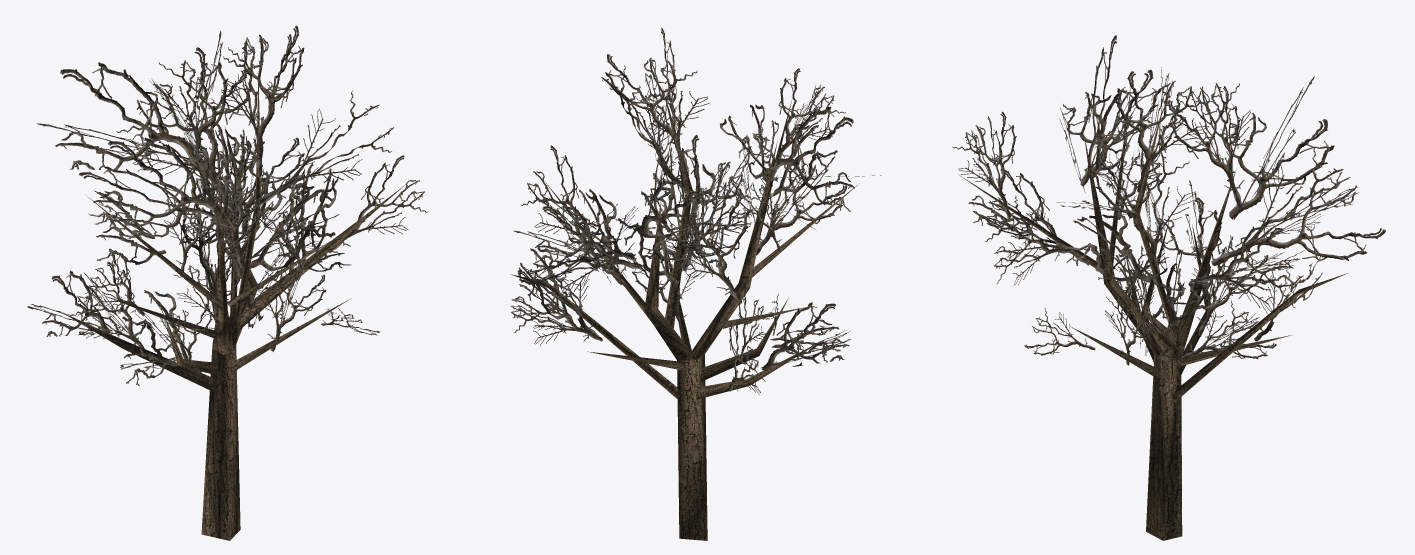
File: Vegetation_Deadtree06_lod2.glb
The picture shows the model from 3 angles, left to right: view 1: azimuth 30°, elevation 25°; view 2: azimuth 150°, elevation 25°; view 3: azimuth 270°, elevation 25°; orthographic projection. The views are drawn at different scales.
Visible parts, largest first — view 1: xiutz_deadtree06_lod2; view 2: xiutz_deadtree06_lod2; view 3: xiutz_deadtree06_lod2.
Boxes of the visible parts, x1,y1,x2,y2 form: xiutz_deadtree06_lod2: (27, 25, 428, 540); xiutz_deadtree06_lod2: (510, 27, 881, 540); xiutz_deadtree06_lod2: (952, 35, 1385, 540).
Size of the model in its own units: 20.18 by 24.5 by 20.49.
Materials: 1 (1 with a texture image).
